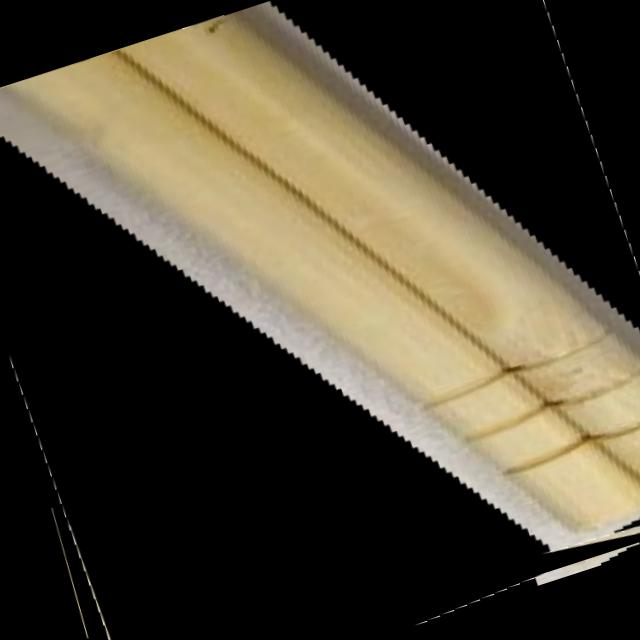others: (0, 6, 640, 556)
